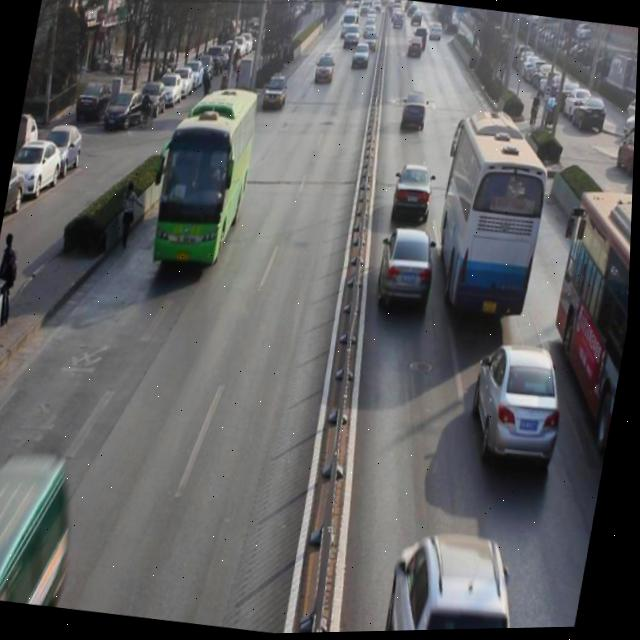car: (387, 524, 547, 633), (465, 338, 578, 480), (374, 229, 442, 316), (391, 163, 441, 228), (399, 91, 432, 137), (261, 72, 293, 117), (314, 55, 339, 88), (350, 41, 373, 73), (342, 27, 362, 51)
truck: (0, 460, 84, 608)
van: (530, 190, 634, 486), (427, 108, 559, 327), (151, 82, 262, 271)
